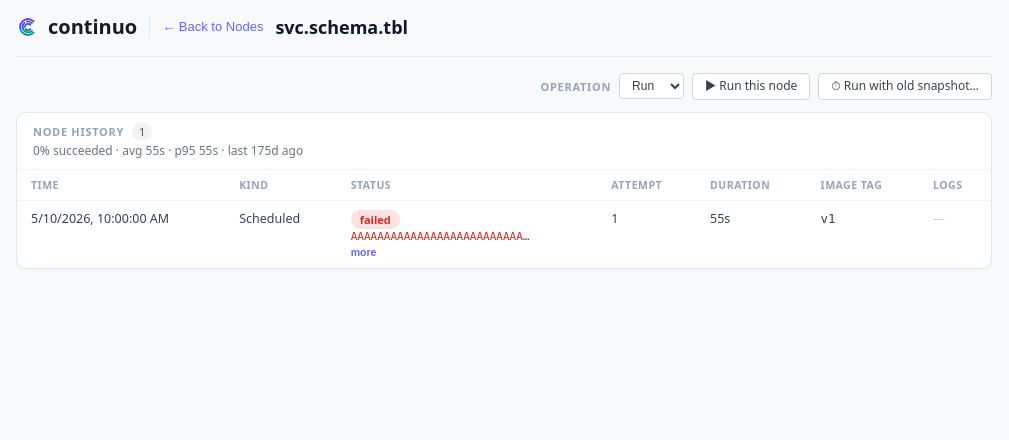
Scenario: NodeDetailPage — foundations › long error message in the runs table is truncated and expandable
Note: Click "more" to expand
Click the button "more".
click(364, 252)  # box top-left (351, 246), bottom-right (376, 258)
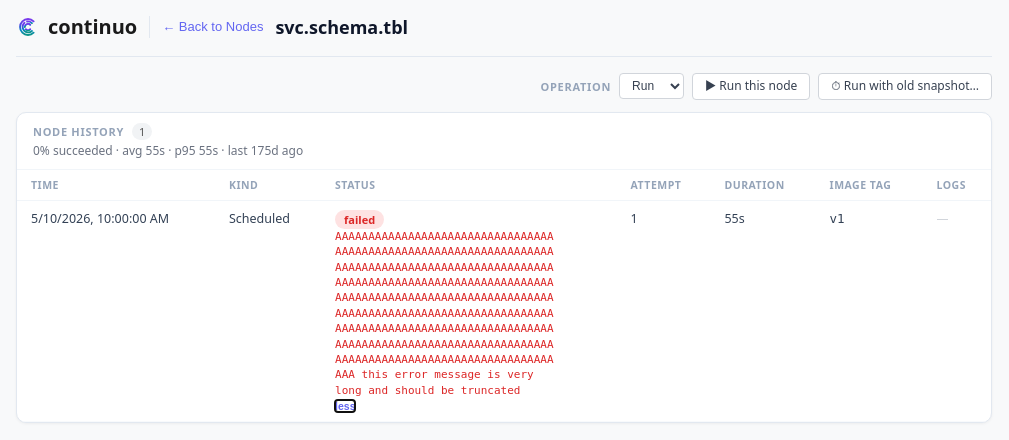
Expected: the button "less" is shown
Note: Click "less" to collapse
Click the button "less".
click(345, 406)  # box top-left (335, 400), bottom-right (355, 412)
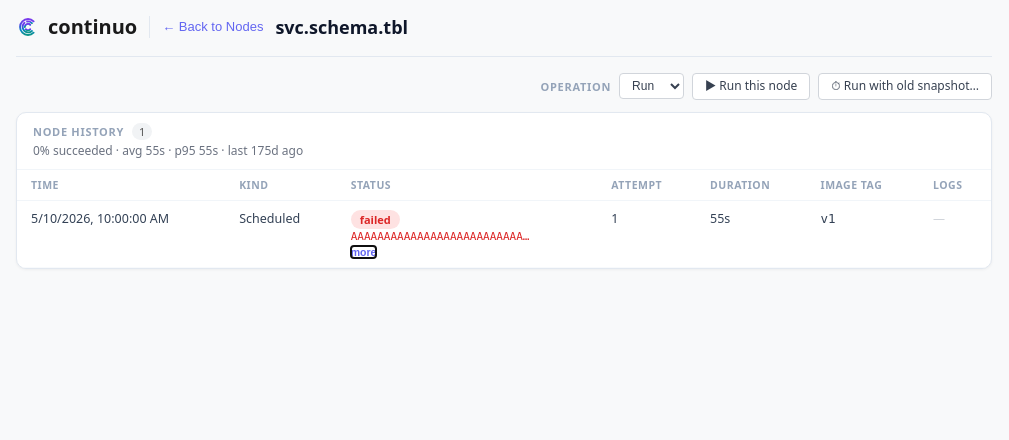
Expected: the button "more" is shown, top-left (351, 246), bottom-right (376, 258)
